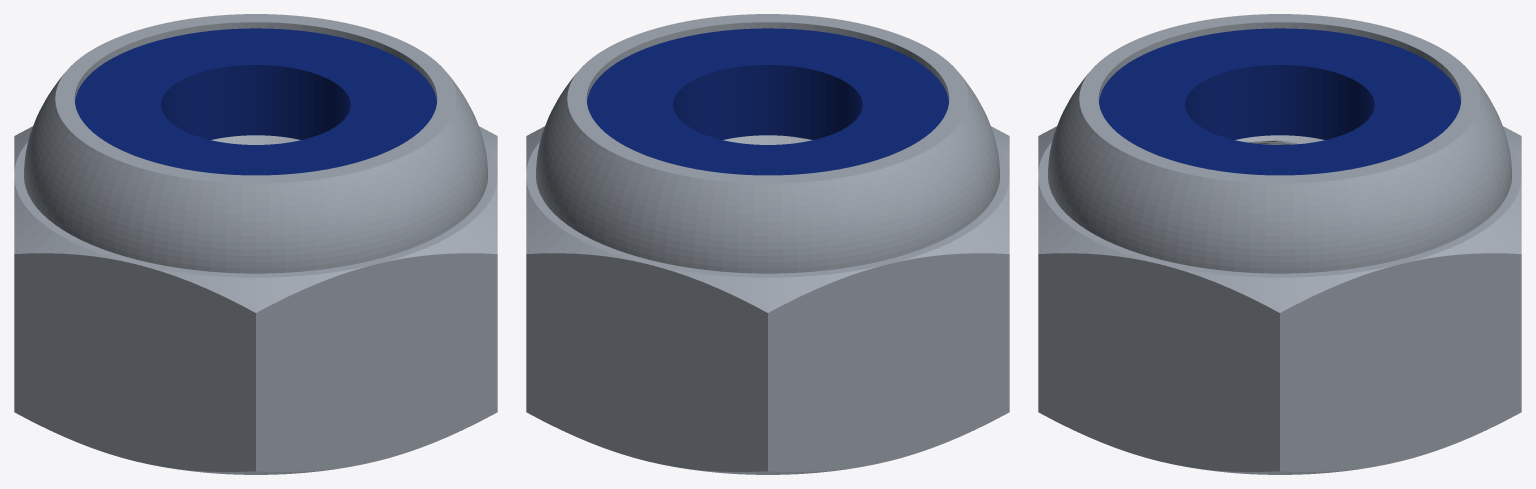
File: model_full.glb
3 views of the same model, side by side, from view 1: azimuth 30°, elevation 25°; view 2: azimuth 150°, elevation 25°; view 3: azimuth 270°, elevation 25° (orthographic).
Visible parts, largest first — view 1: steel, nylon_insert; view 2: steel, nylon_insert; view 3: steel, nylon_insert.
Boxes of the visible parts, box(x1,y1,x2,y2) form: steel: box(14, 14, 497, 474); nylon_insert: box(75, 28, 436, 175); steel: box(526, 14, 1009, 474); nylon_insert: box(587, 28, 948, 175); steel: box(1038, 14, 1521, 474); nylon_insert: box(1099, 28, 1460, 175).
Size of the model in its own units: 0.00462 by 0.0025 by 0.004.
